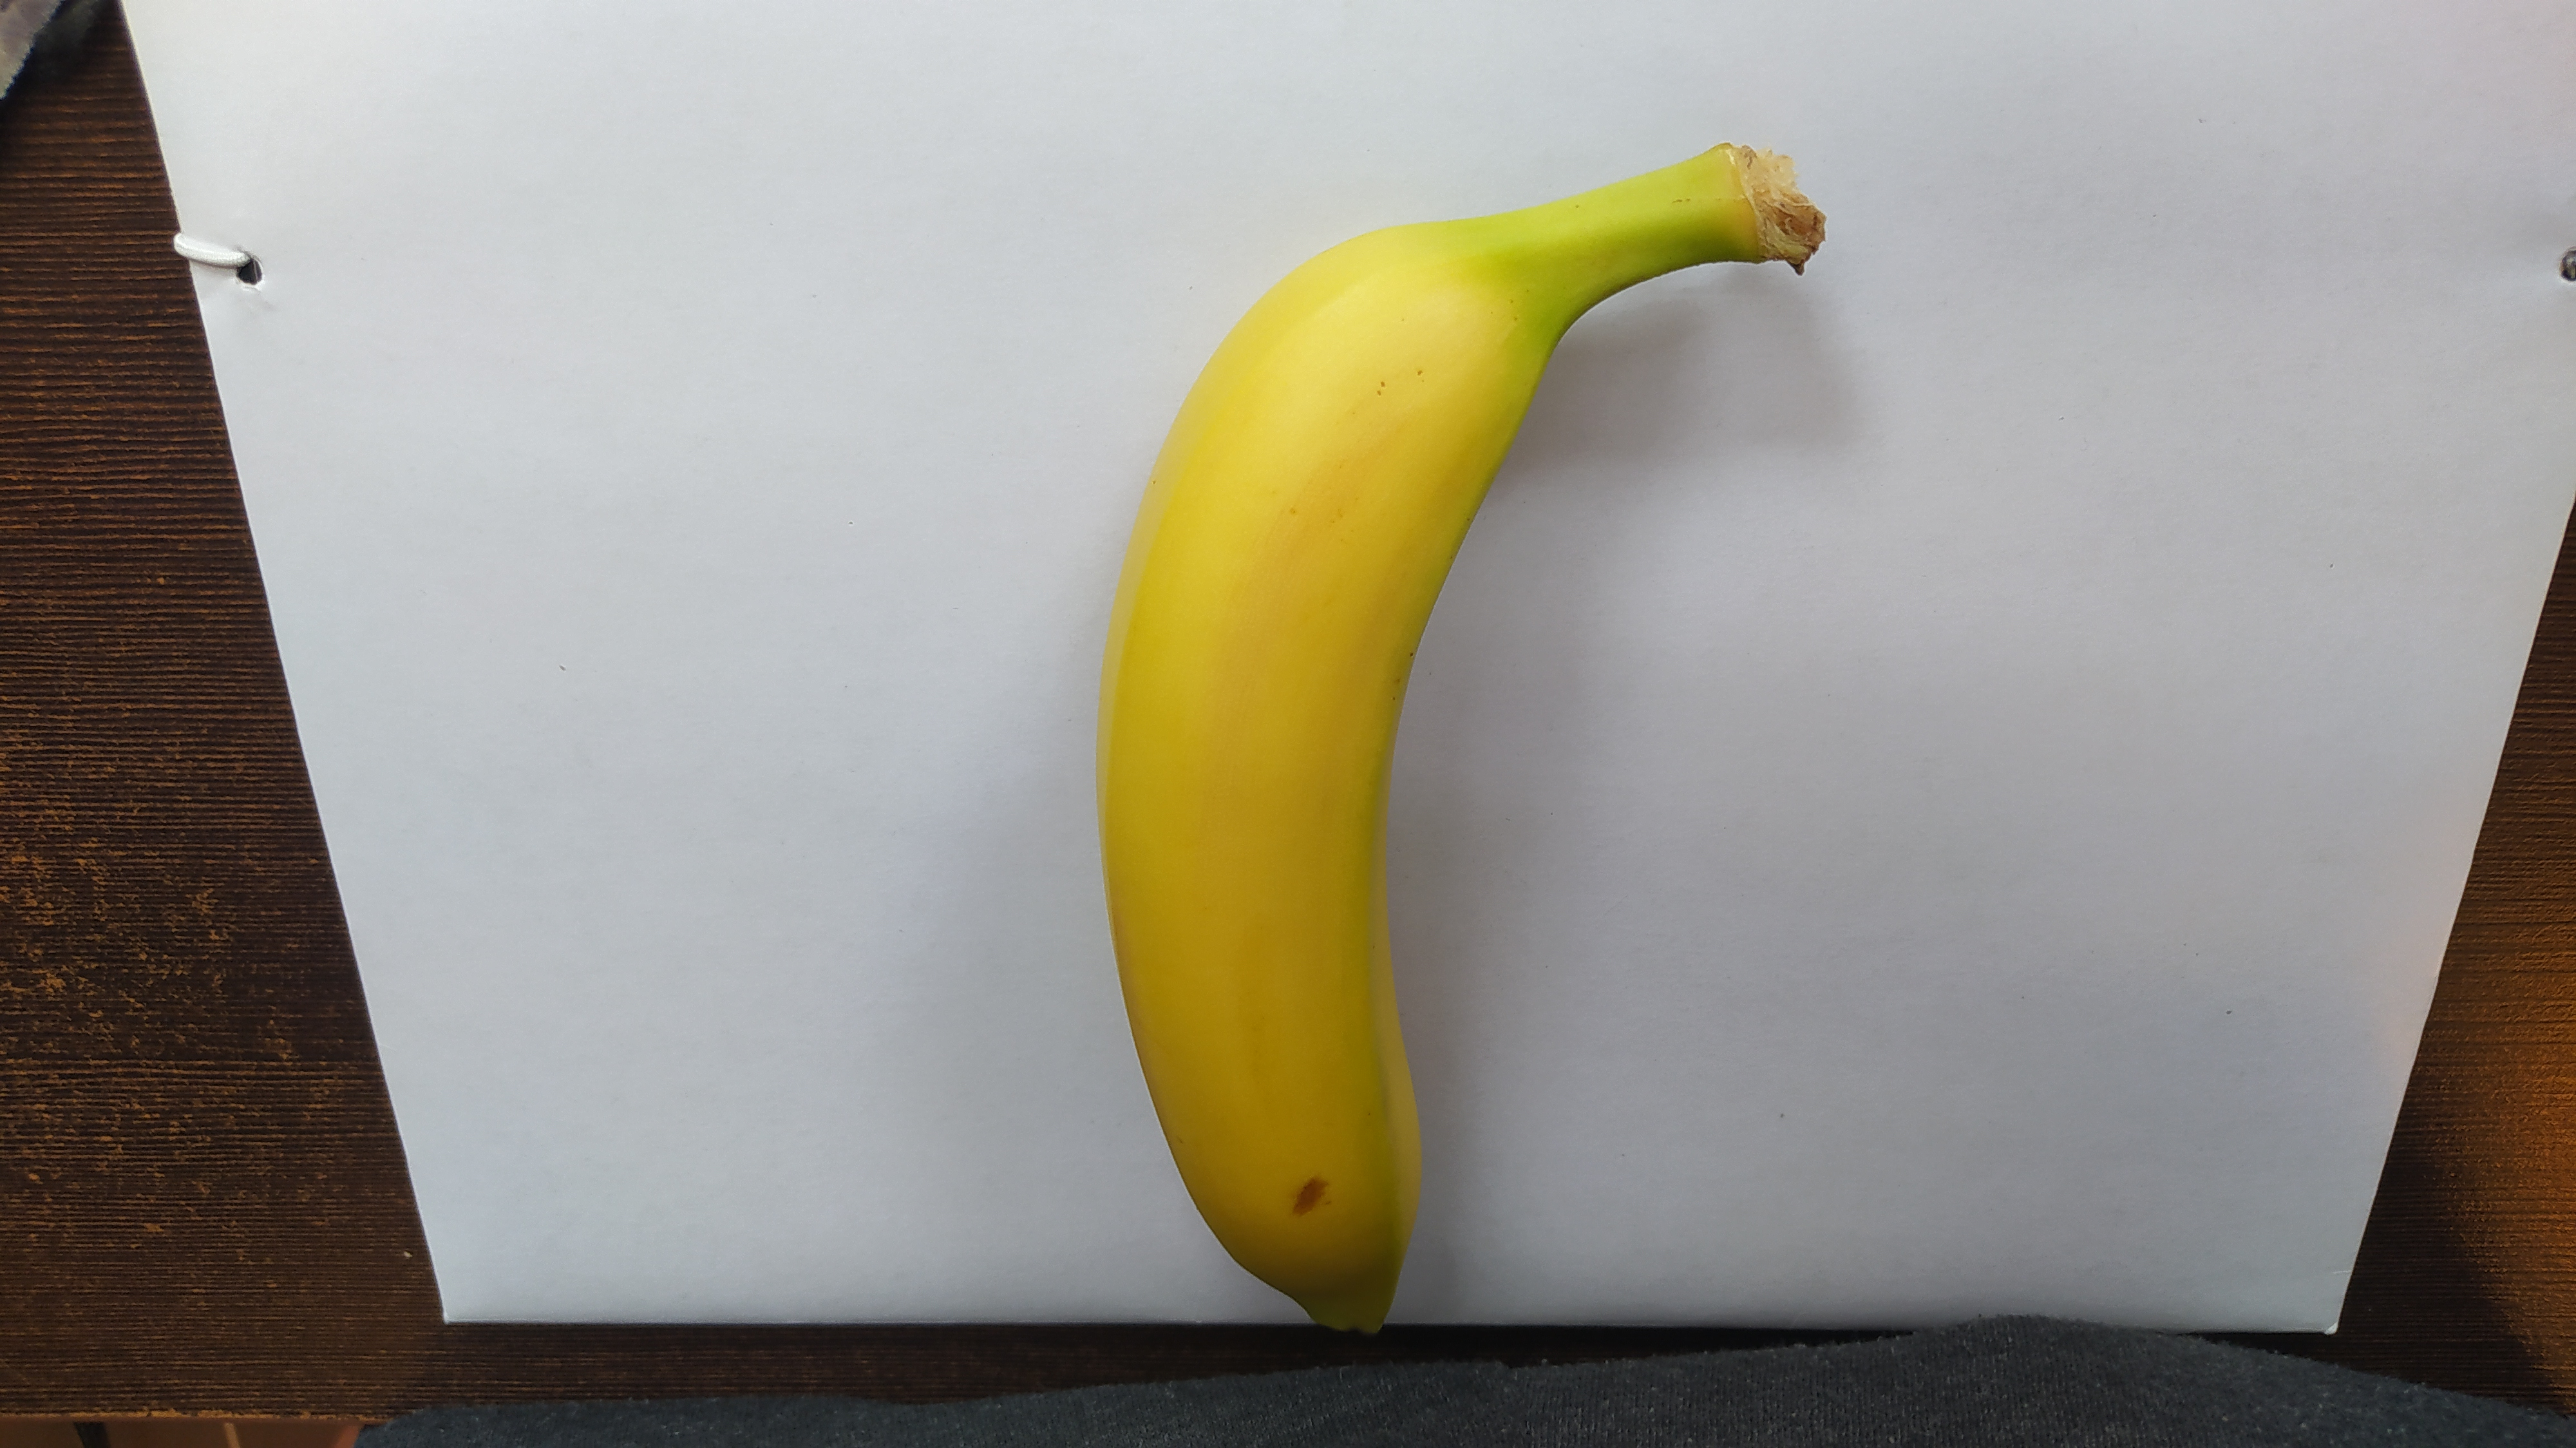banana: (1097, 145, 1828, 1336)
